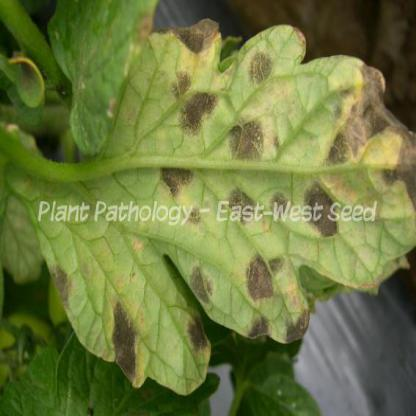tomato mold leaf: (16, 12, 412, 396)
